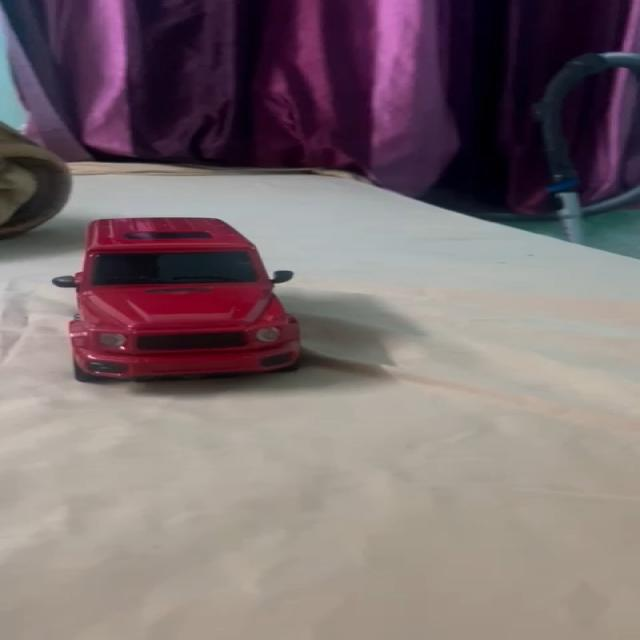light_vehicle: (69, 215, 291, 386)
